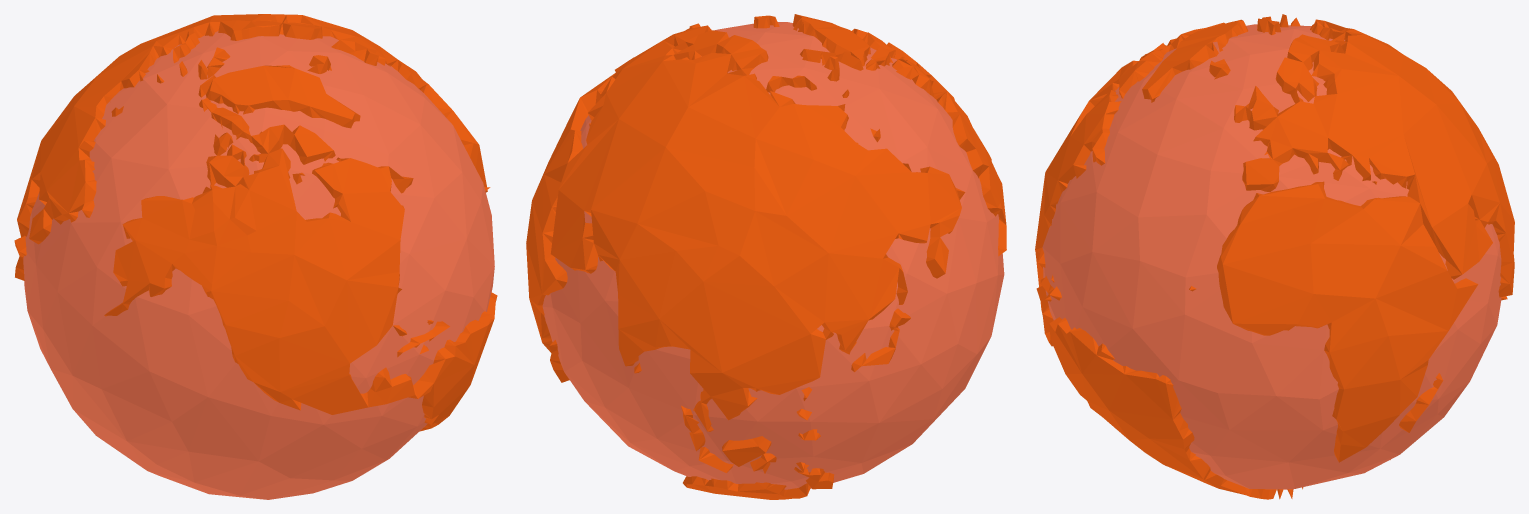
File: low_poly_mars.gltf
3 views of the same model, side by side, from view 1: azimuth 30°, elevation 25°; view 2: azimuth 150°, elevation 25°; view 3: azimuth 270°, elevation 25° (orthographic).
Parts seen in each view (by area): view 1: low_poly_earth; view 2: low_poly_earth; view 3: low_poly_earth.
Boxes of the visible parts, x1,y1,x2,y2 form: low_poly_earth: (14, 14, 497, 499); low_poly_earth: (526, 14, 1006, 499); low_poly_earth: (1035, 14, 1514, 499).
Size of the model in its own units: 1.95 by 2.01 by 1.99.
